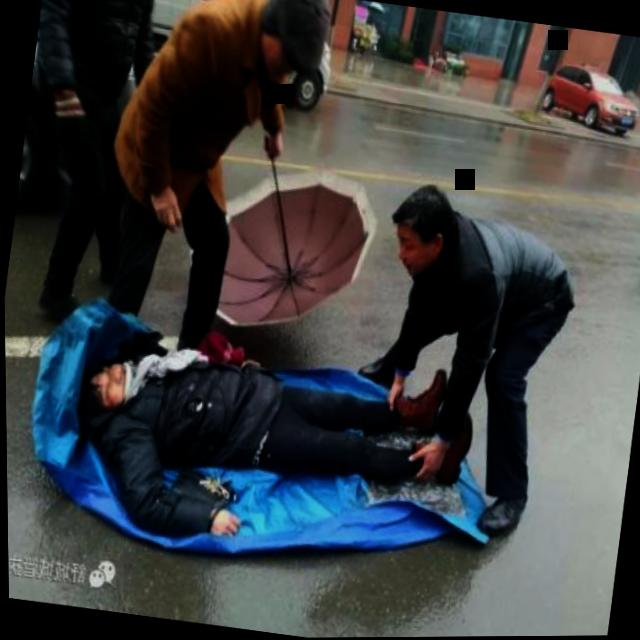Fall-Detected: (24, 275, 481, 593)
